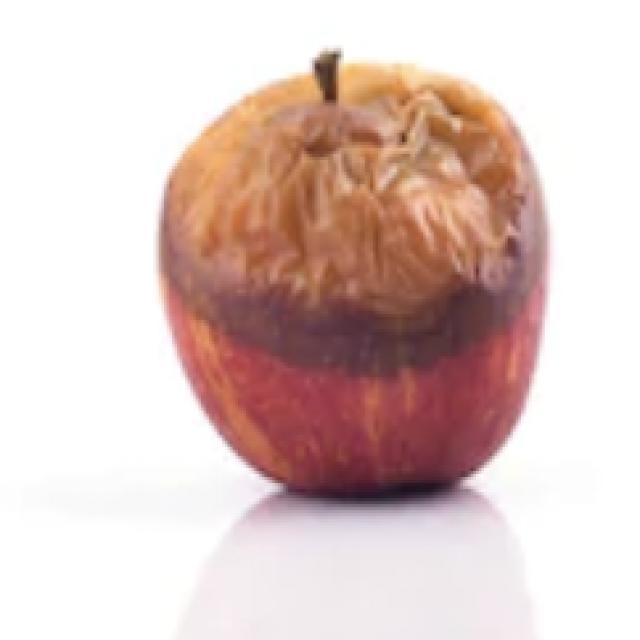Rotten: (164, 75, 564, 515)
